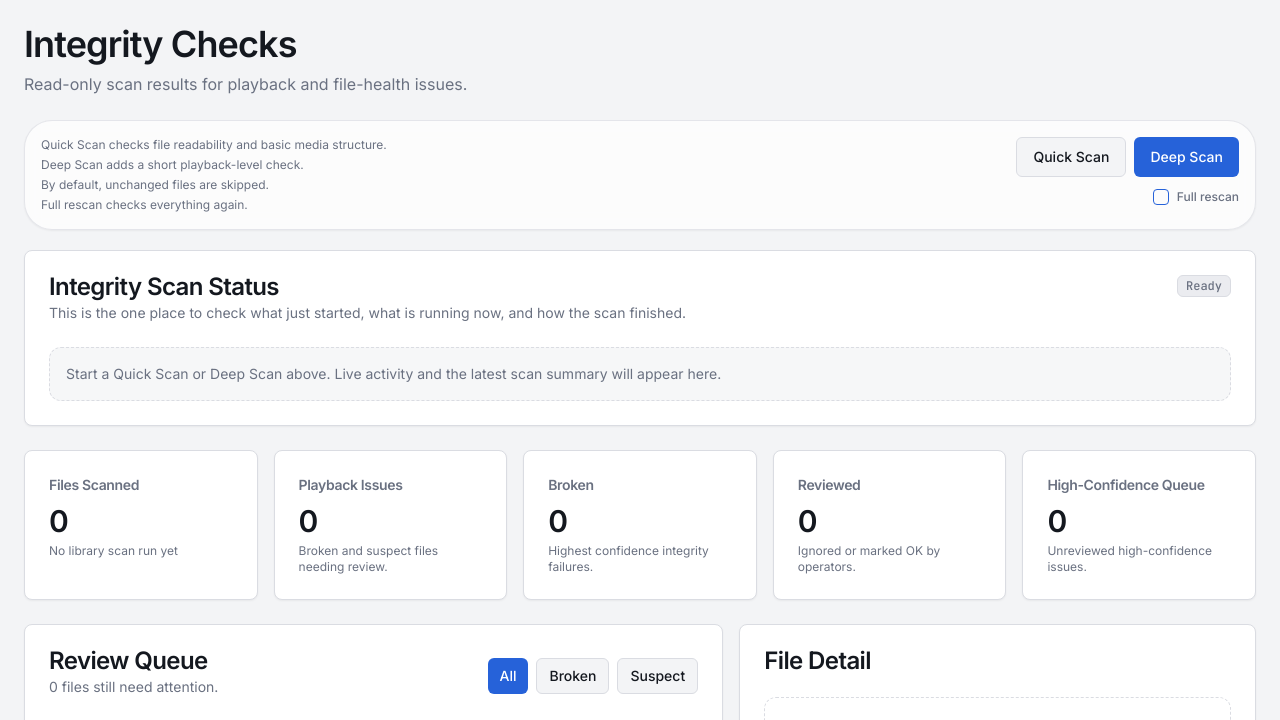
Test: IntegrityPage › quick scan shows in-flight state and then success summary
Later steps or results of the test are not shown.
Click the button "Quick Scan".
click(1071, 157)  # box [1016,137,1126,177]
(page scrolled)
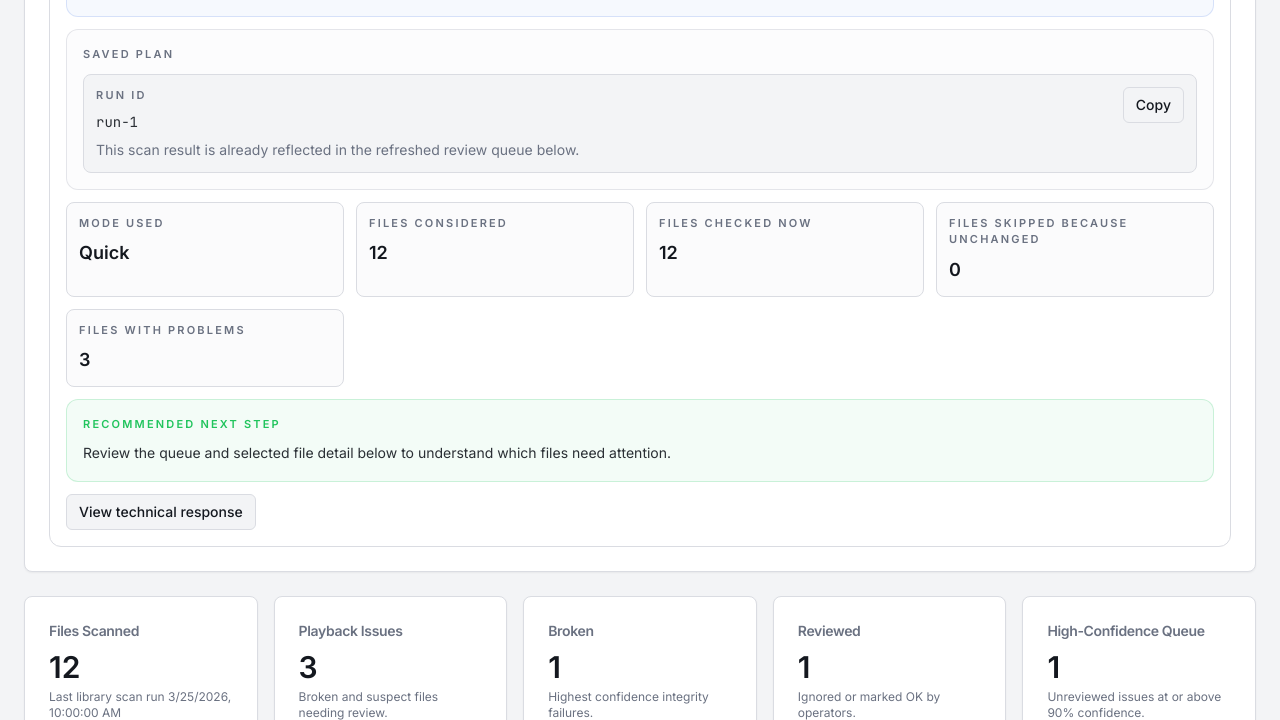
Expected: the text "Run ID" is shown, [96,88,147,102]
Expected: the text "Files considered" is shown, [369,216,508,230]
Expected: the text "Files checked now" is shown, [659,216,813,230]
